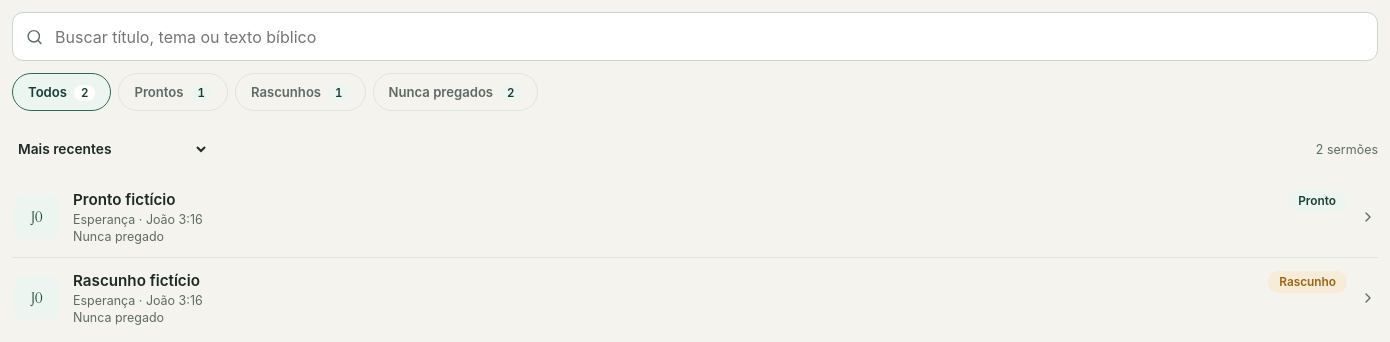
Scenario: biblioteca de sermões › os contadores dos filtros vêm dos dados, e o filtro recorta a lista
Expected: the 1st text "2" is shown, [74, 85, 96, 101]
Click the button "Prontos1" at [173, 92], box [118, 73, 228, 111]
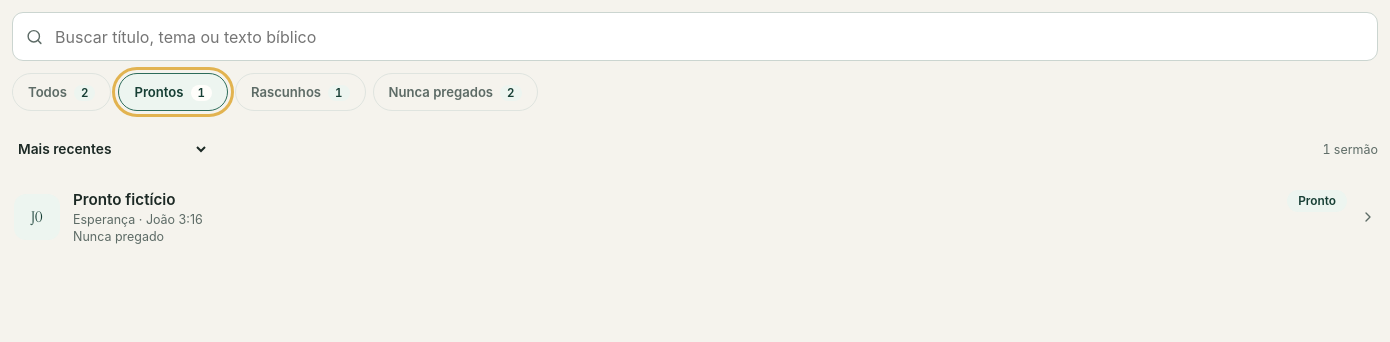
Expected: the text "Pronto fictício" is shown, [73, 190, 176, 209]
Expected: the link "Rascunho fictício" is gone
